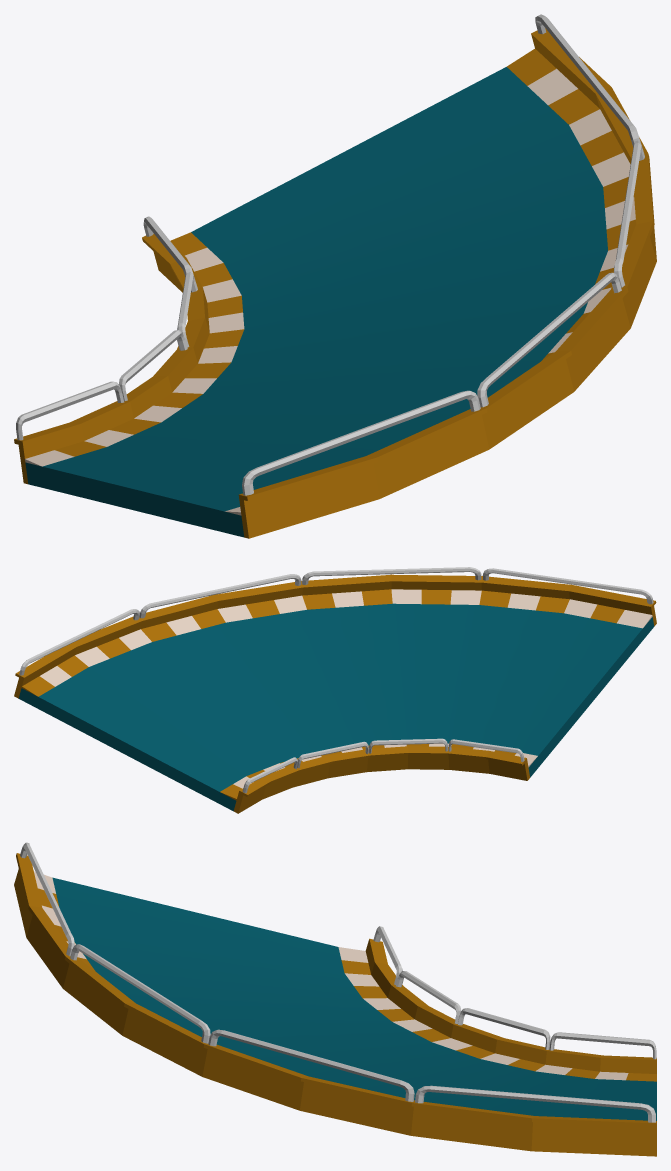
Rendered from bankedLeft-90-15_m.FBX.
The picture shows the model from 3 angles, top to bottom: view 1: azimuth 30°, elevation 25°; view 2: azimuth 150°, elevation 25°; view 3: azimuth 270°, elevation 25°; orthographic projection. The views are drawn at different scales.
Parts seen in each view (by area): view 1: bankedLeft-90-15_m, wall_r, wall_l, curbs_l, curbs_r; view 2: bankedLeft-90-15_m, wall_r, curbs_r, wall_l, curbs_l; view 3: bankedLeft-90-15_m, wall_r, wall_l, curbs_l, curbs_r.
Boxes of the visible parts, box(x1,y1,x2,y2) form: bankedLeft-90-15_m: box(25, 67, 607, 537); wall_r: box(238, 14, 656, 538); wall_l: box(14, 216, 209, 484); curbs_l: box(25, 232, 244, 466); curbs_r: box(225, 49, 636, 515); bankedLeft-90-15_m: box(18, 603, 654, 811); wall_r: box(14, 567, 656, 698); curbs_r: box(21, 589, 652, 696); wall_l: box(233, 738, 529, 813); curbs_l: box(220, 743, 537, 800); bankedLeft-90-15_m: box(52, 877, 656, 1120); wall_r: box(14, 842, 656, 1156); wall_l: box(365, 926, 656, 1073); curbs_l: box(338, 947, 656, 1081); curbs_r: box(34, 871, 94, 970).
Size of what is drawn, in the model's own units: 351 by 80.3 by 351.
